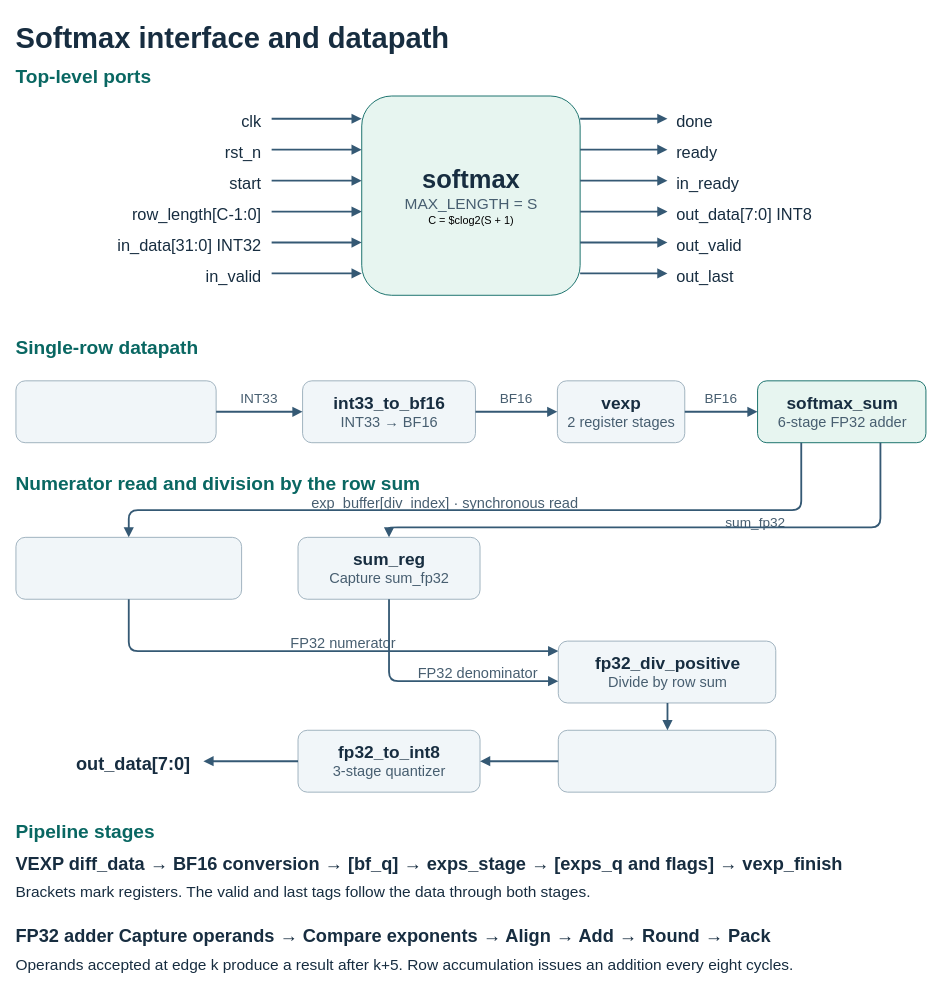
The diagram is 942 pixels wide and 989 high, and some of its shapes have lost their labels. The box of each missing label's shape, as (x1, y1, x2, y2) in pixels:
BF16 → FP32 {read_data, 16'b0}: (15, 536, 242, 599)
probability_fp32 Registered quotient: (557, 729, 776, 792)
softmax_row_max Store row, subtract max: (15, 380, 216, 443)
